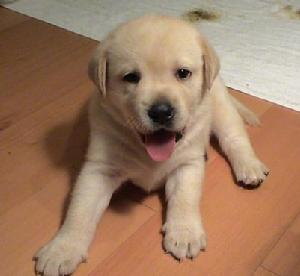dog: (32, 16, 270, 276)
